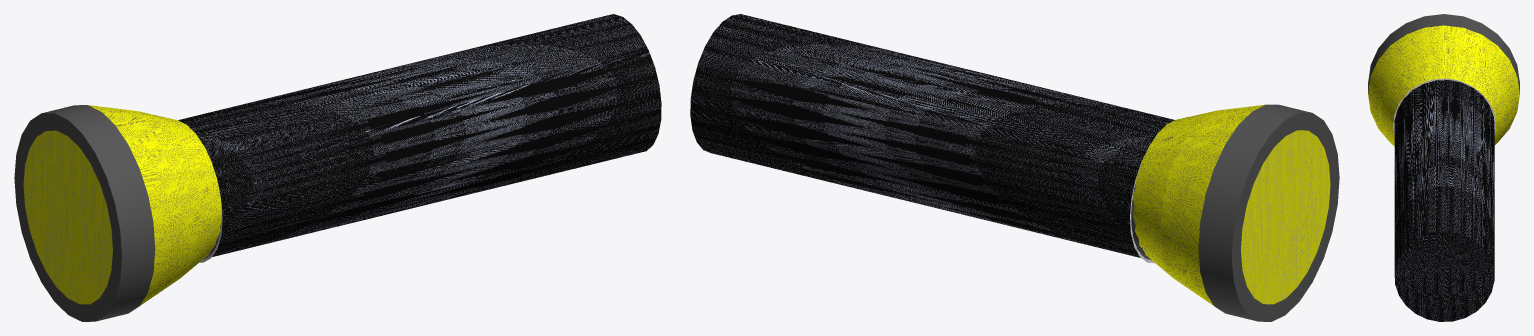
3 renders of one model, left to right at view 1: azimuth 30°, elevation 25°; view 2: azimuth 150°, elevation 25°; view 3: azimuth 270°, elevation 25°, orthographic. The views are drawn at different scales.
Visible parts, largest first — view 1: sketchup-download200612291912214 (×4); view 2: sketchup-download200612291912214 (×4); view 3: sketchup-download200612291912214 (×5).
Boxes of the visible parts, x1,y1,x2,y2 form: sketchup-download200612291912214 (×4): (14,14,661,321); sketchup-download200612291912214 (×4): (690,14,1339,321); sketchup-download200612291912214 (×5): (1368,14,1519,321).
Bounding box in the file's own units: 218 × 72.87 × 72.87.
